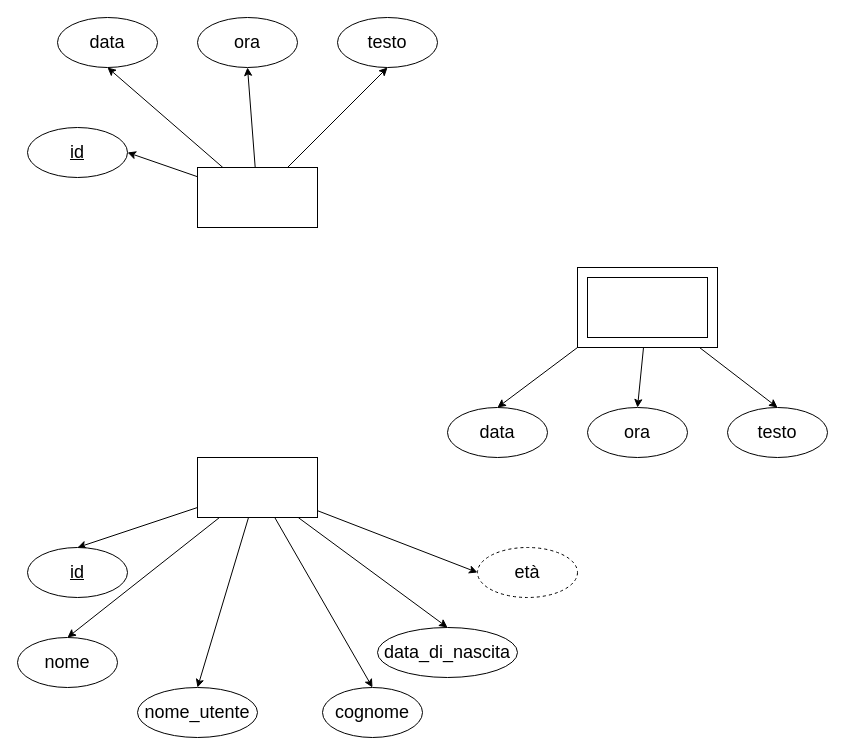
Image size: 845x755. Some labels were removed from this diagram. The centre of each missing label's shape, as x and y in pixels:
COMMENTO: (647,307)
POST: (257,197)
UTENTE: (257,487)
